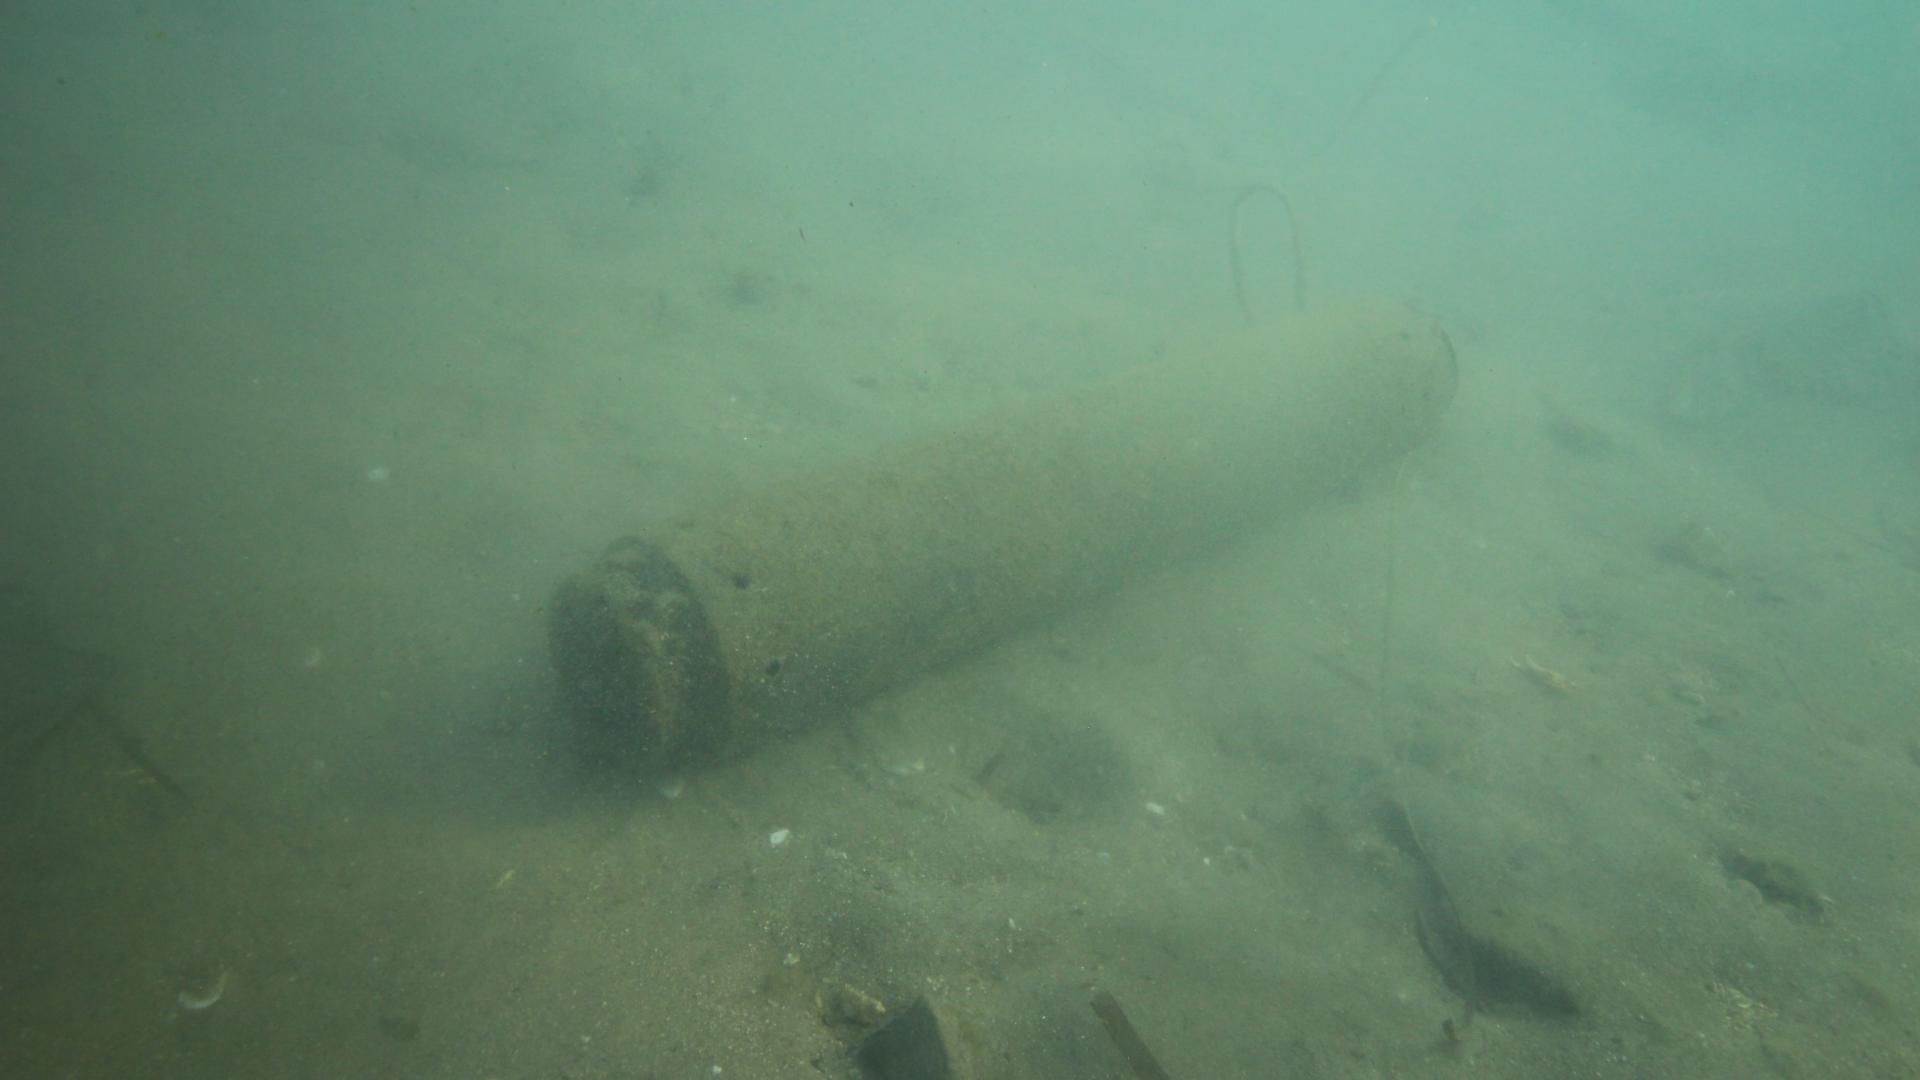eel fish trap: (546, 299, 1460, 771)
rope: (1222, 175, 1315, 344)
